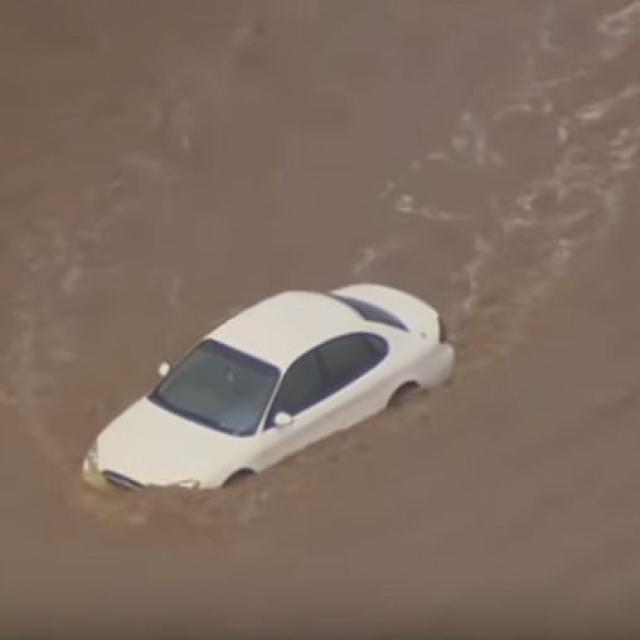flooded_areas: (22, 24, 638, 570)
